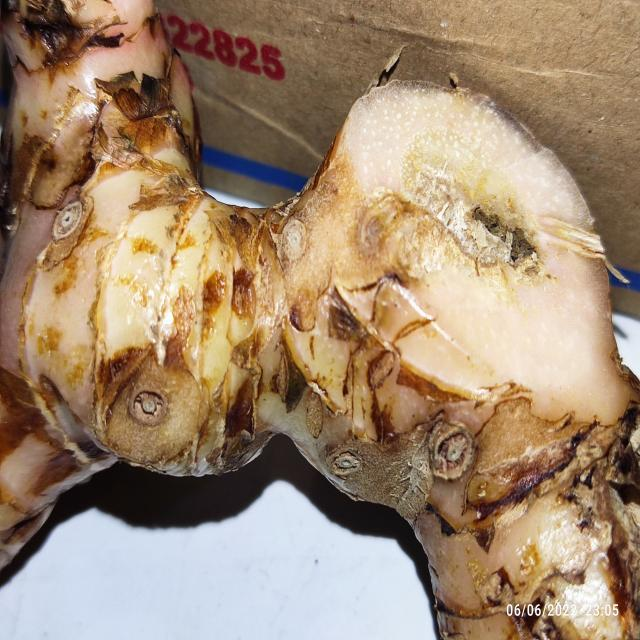ginger: (6, 0, 626, 569)
